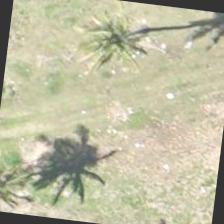Kelapa_Sawit: (66, 12, 166, 112)
